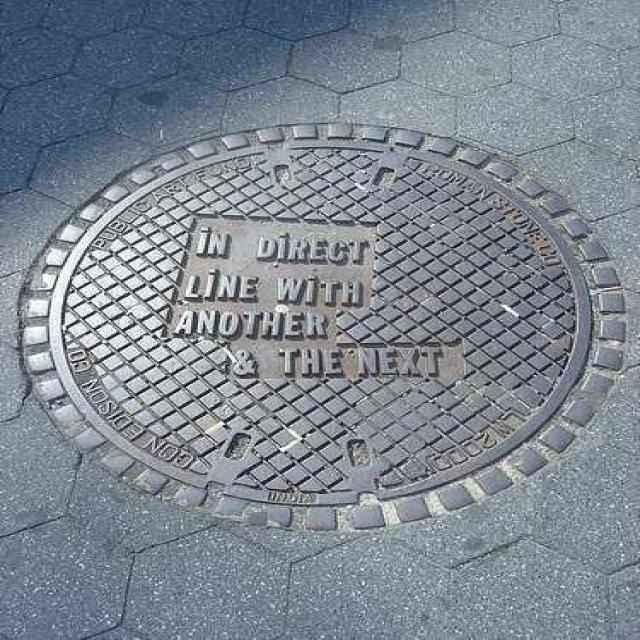manhole: (20, 122, 625, 529)
